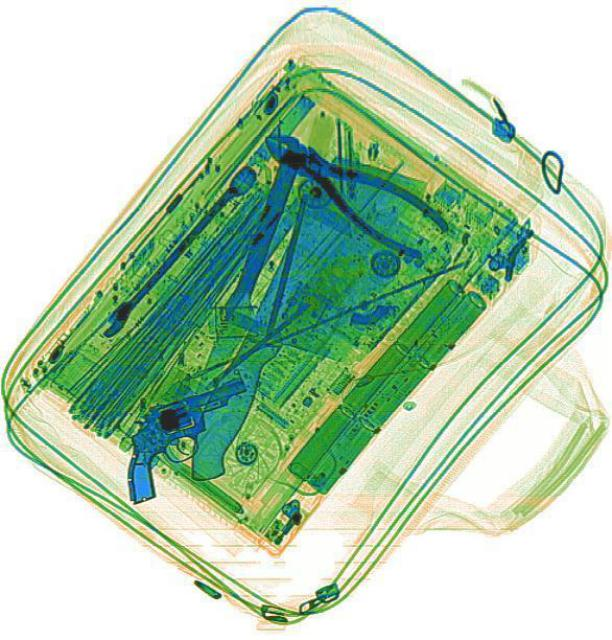Gun: (103, 374, 268, 504)
Knife: (176, 139, 432, 516), (177, 146, 309, 434)
Pliers: (247, 107, 451, 267)
